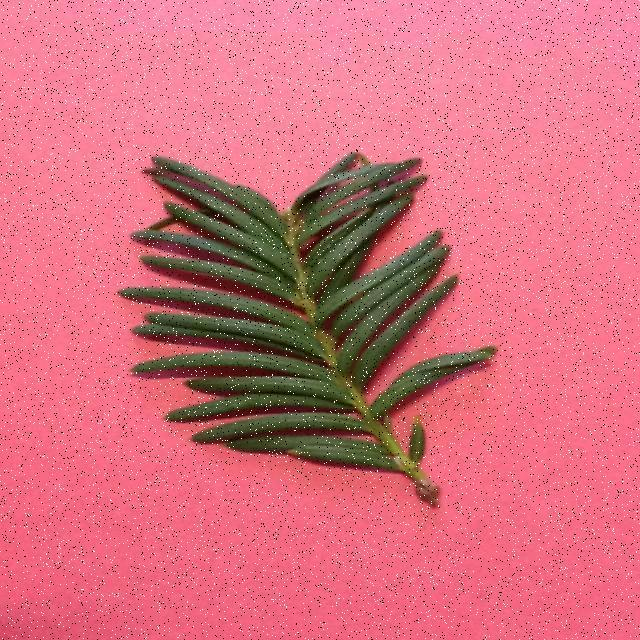foliage: (119, 155, 496, 504)
